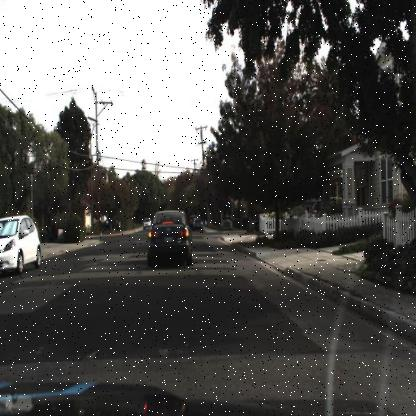car: (0, 202, 49, 282), (143, 201, 194, 269), (192, 217, 204, 232)
